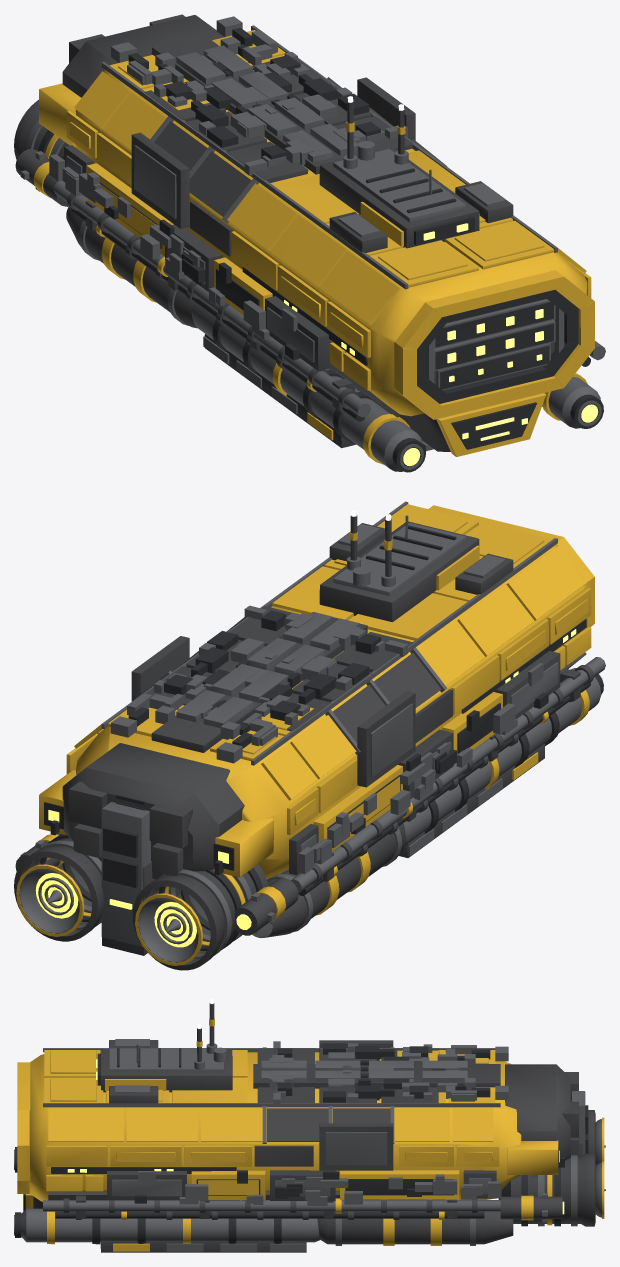
The picture shows the model from 3 angles, top to bottom: view 1: azimuth 30°, elevation 25°; view 2: azimuth 150°, elevation 25°; view 3: azimuth 270°, elevation 25°; orthographic projection. The views are drawn at different scales.
Parts seen in each view (by area): view 1: TK07_Coque; view 2: TK07_Coque; view 3: TK07_Coque.
Part boxes in pixels (x1,y1,x2,y2): TK07_Coque: (14,14,605,472); TK07_Coque: (14,501,605,970); TK07_Coque: (14,999,605,1252).
Bounding box in the file's own units: 10.89 × 11.15 × 28.7.
